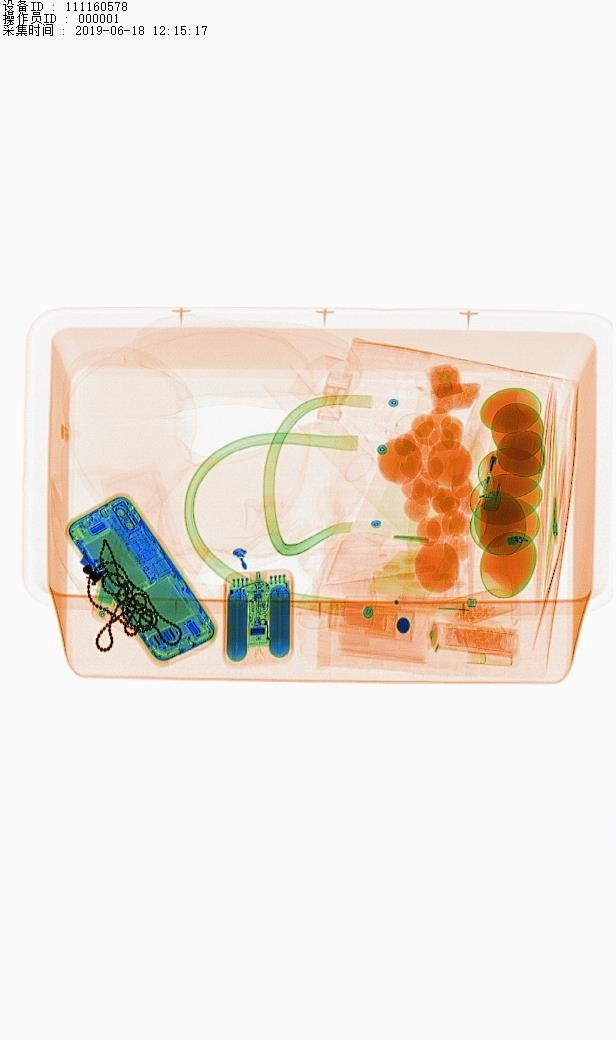NonmetallicFire: (468, 390, 553, 530)
